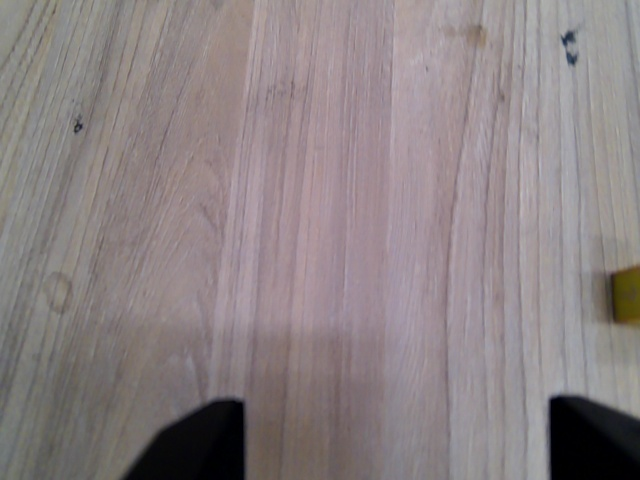lucky: (607, 258, 640, 336)
